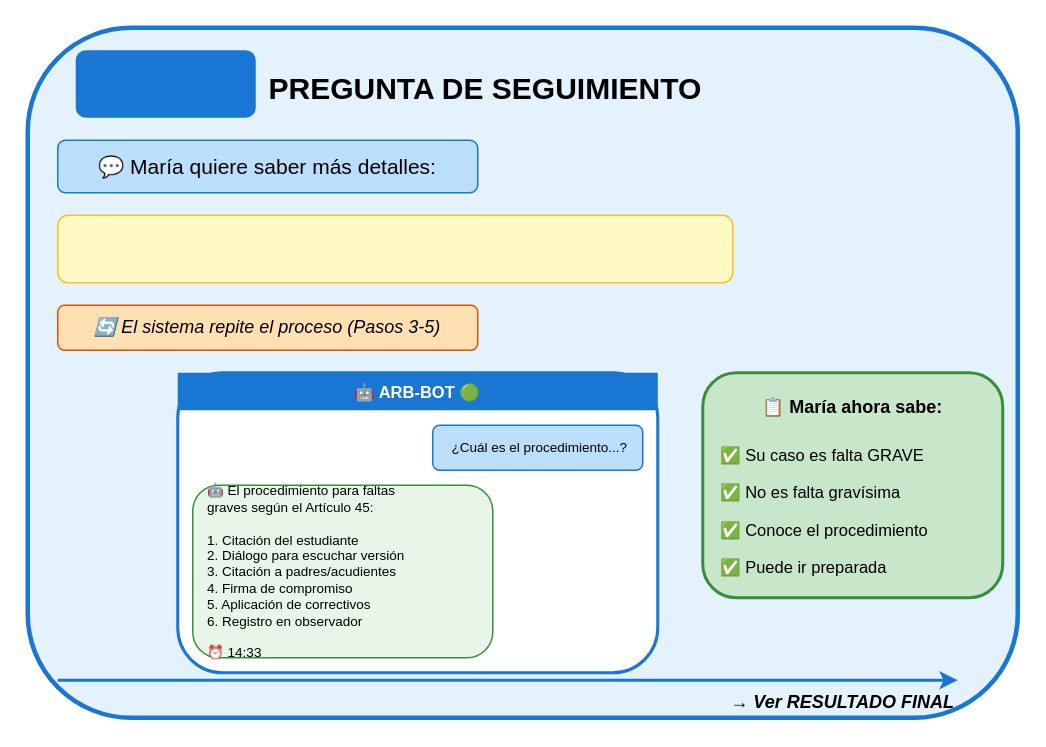
Image size: 1046x747. Some labels were removed from this diagram. Here are the shapes that lost their labels. From the top down, the centre of each, then its label:
point 165,83: PASO 6
point 394,248: "¿Cuál es el procedimiento cuando cometen una falta grave?"
